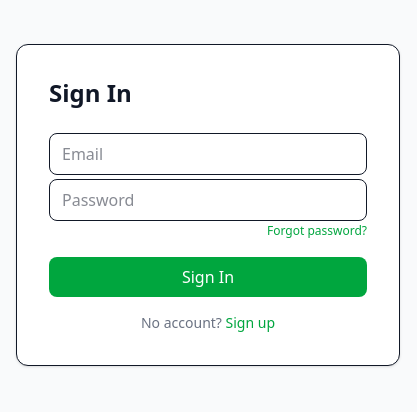
it: Login page › shows validation error for invalid email
The width and height of the screenshot is (417, 412).
Type "bad" into the field with placeholder "Email".
click(208, 154); type("bad")  # box 49,133 -> 367,175
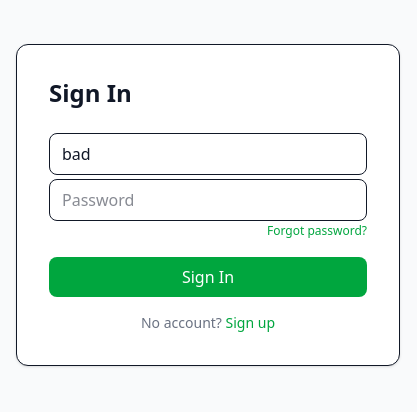
Click the button "Sign In".
click(208, 277)  # box 49,257 -> 367,297
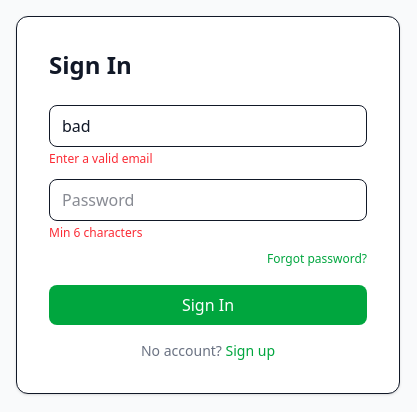
Now the text "Enter a valid email" is shown, box 49,150 -> 153,167
